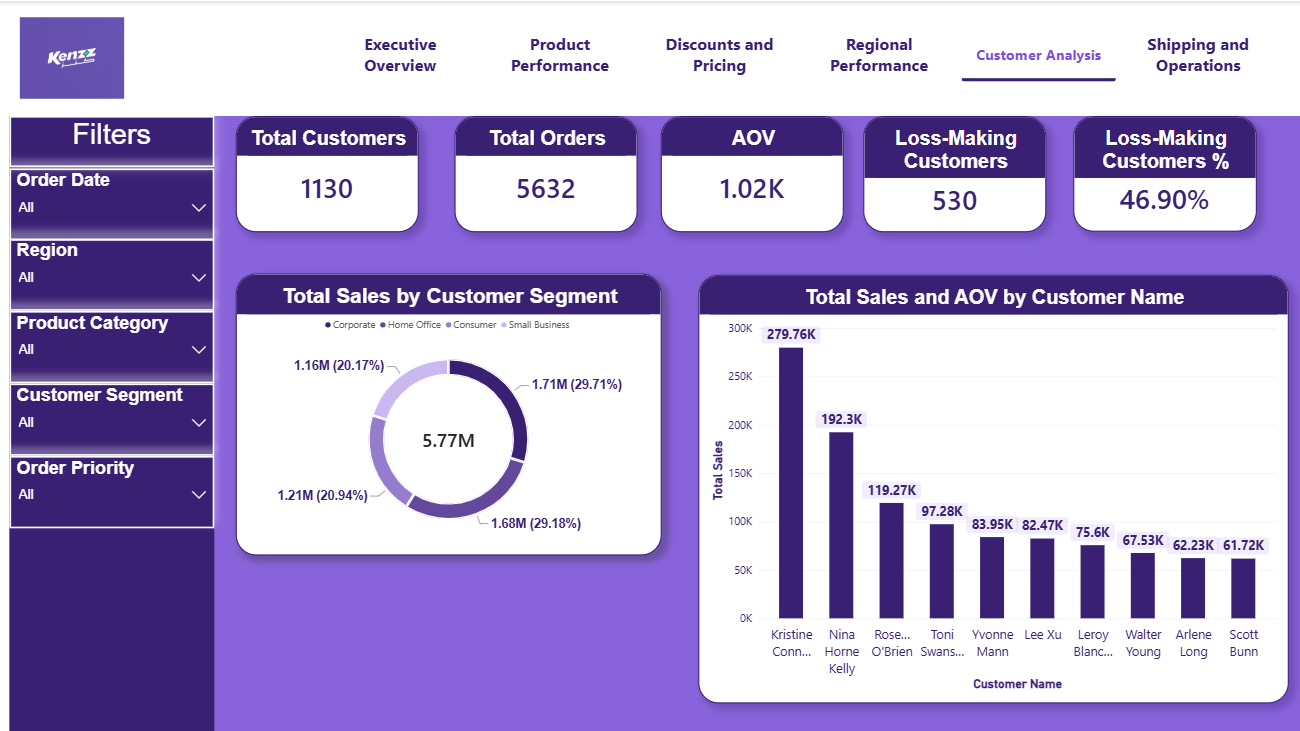

The dashboard page shown, as its layout file describes it:
{"tool":"powerbi","page":{"name":"Customer Analysis","canvas":[1920,1080],"ordinal":5},"visuals":[{"type":"shape","box":[0,140.9,18.8,939.1],"z":0},{"type":"shape","title":"Super Store Analysis Dashboard","box":[0,0,1919.6,169.3],"z":1000},{"type":"pageNavigator","box":[480.4,38.7,1404.3,81],"z":3000},{"type":"shape","box":[18.4,169,301.8,911],"z":4000},{"type":"textbox","box":[18.4,169.3,301.8,75.5],"z":5000},{"type":"slicer","fields":{"Values":["Final Sales Data.Order Date"]},"box":[18.4,246.6,301.8,106.7],"z":6000},{"type":"slicer","fields":{"Values":["Customers Data.Region"]},"box":[18.4,349.7,301.8,106.7],"z":7000},{"type":"slicer","fields":{"Values":["Products Data.Product Category"]},"box":[18.4,456.4,301.8,106.7],"z":8000},{"type":"slicer","fields":{"Values":["Customers Data.Customer Segment"]},"box":[18.4,563.2,301.8,106.7],"z":9000},{"type":"slicer","fields":{"Values":["Final Sales Data.Order Priority"]},"box":[18.4,669.9,301.8,106.7],"z":10000},{"type":"card","title":"Total Customers","fields":{"Values":["Measures Table.Total Customers"]},"box":[351.5,168.9,269.9,170.9],"z":11000},{"type":"clusteredColumnChart","fields":{"Category":["Customers Data.Customer Name"],"Y":["Measures Table.Total Sales"]},"box":[1033,403.9,869.9,631.1],"z":12000},{"type":"card","title":"Total Orders","fields":{"Values":["Measures Table.Total Orders"]},"box":[673.8,168.9,269.9,170.9],"z":13000},{"type":"donutChart","title":"Total Sales by Customer Segment","fields":{"Category":["Customers Data.Customer Segment"],"Y":["Measures Table.Total Sales"]},"box":[351.5,401.9,627.2,415.5],"z":14000},{"type":"card","title":"AOV","fields":{"Values":["Measures Table.AOV"]},"box":[976.7,168.9,269.9,170.9],"z":15000},{"type":"card","title":"Loss-Making Customers","fields":{"Values":["Measures Table.Loss-Making Customers"]},"box":[1275.7,168.9,269.9,170.9],"z":16000},{"type":"card","title":"Loss-Making Customers %","fields":{"Values":["Measures Table.Loss-Making Customers %"]},"box":[1584.5,168.9,270,170],"z":17000},{"type":"image","box":[18.4,23.9,184.1,119.6],"z":17001}]}

Visuals, with their boxes in screenshot pixels (x1, y1, x2, y2), scaled from the page's 1920x1080 canvas onto the 1300x731 screenshot:
shape: <box>0,95,13,730</box>
"Super Store Analysis Dashboard" shape: <box>0,0,1299,115</box>
pageNavigator: <box>325,26,1276,81</box>
shape: <box>12,114,217,730</box>
textbox: <box>12,115,217,166</box>
slicer - Final Sales Data.Order Date: <box>12,167,217,239</box>
slicer - Customers Data.Region: <box>12,237,217,309</box>
slicer - Products Data.Product Category: <box>12,309,217,381</box>
slicer - Customers Data.Customer Segment: <box>12,381,217,453</box>
slicer - Final Sales Data.Order Priority: <box>12,453,217,526</box>
"Total Customers" card: <box>238,114,421,230</box>
clusteredColumnChart - Customers Data.Customer Name x Measures Table.Total Sales: <box>699,273,1288,701</box>
"Total Orders" card: <box>456,114,639,230</box>
"Total Sales by Customer Segment" donutChart: <box>238,272,663,553</box>
"AOV" card: <box>661,114,844,230</box>
"Loss-Making Customers" card: <box>864,114,1046,230</box>
"Loss-Making Customers %" card: <box>1073,114,1256,229</box>
image: <box>12,16,137,97</box>
